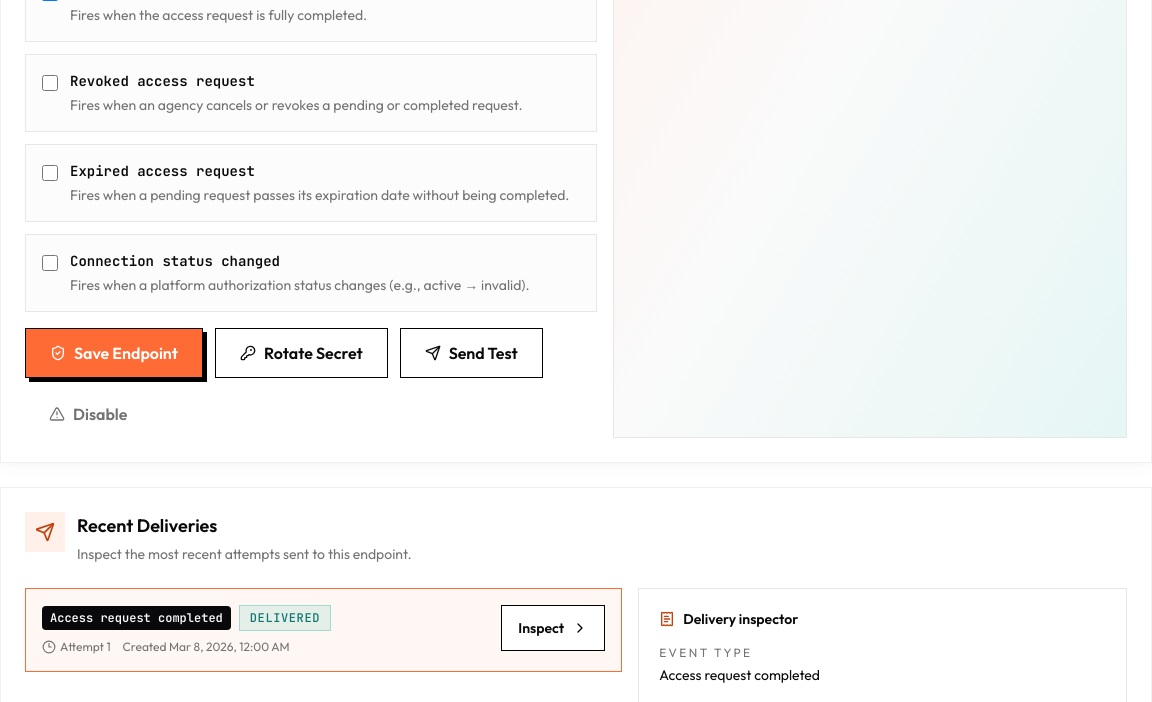
Scenario: WebhookSettingsTab › queues a test event from the active endpoint state
The width and height of the screenshot is (1152, 702).
(page scrolled)
Click the button "Send Test" at (471, 353), box [400,328,543,378]
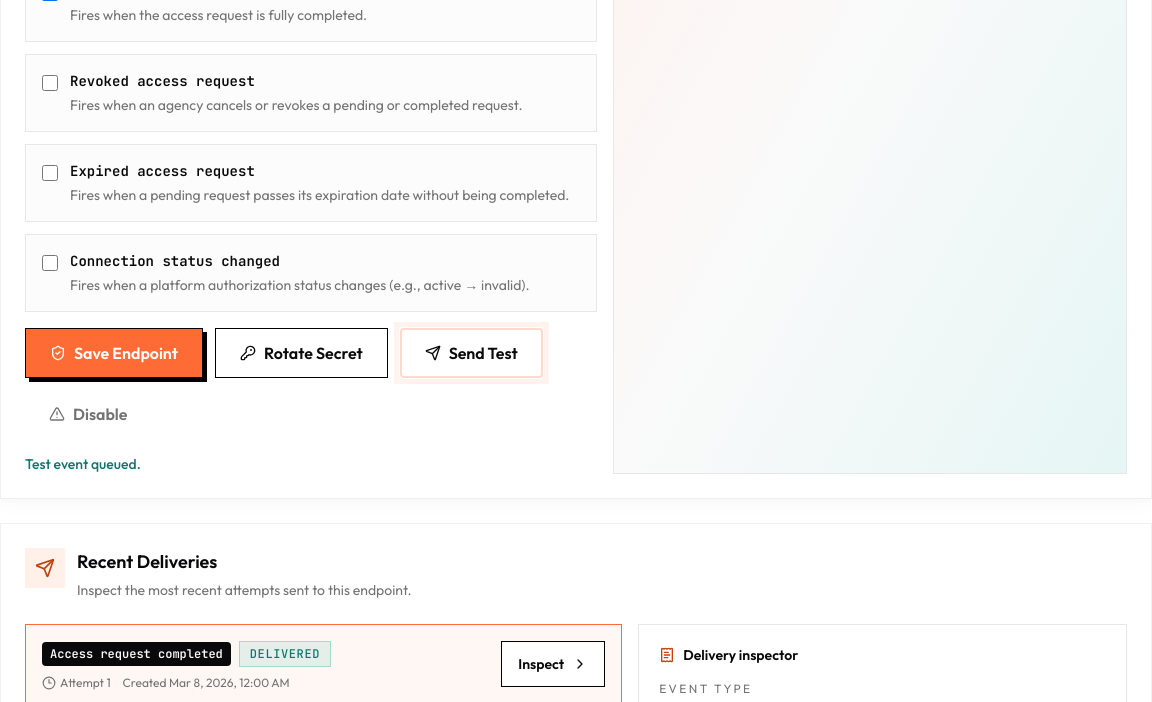
Check: the text "Test event queued." is shown, box [25,455,141,473]
